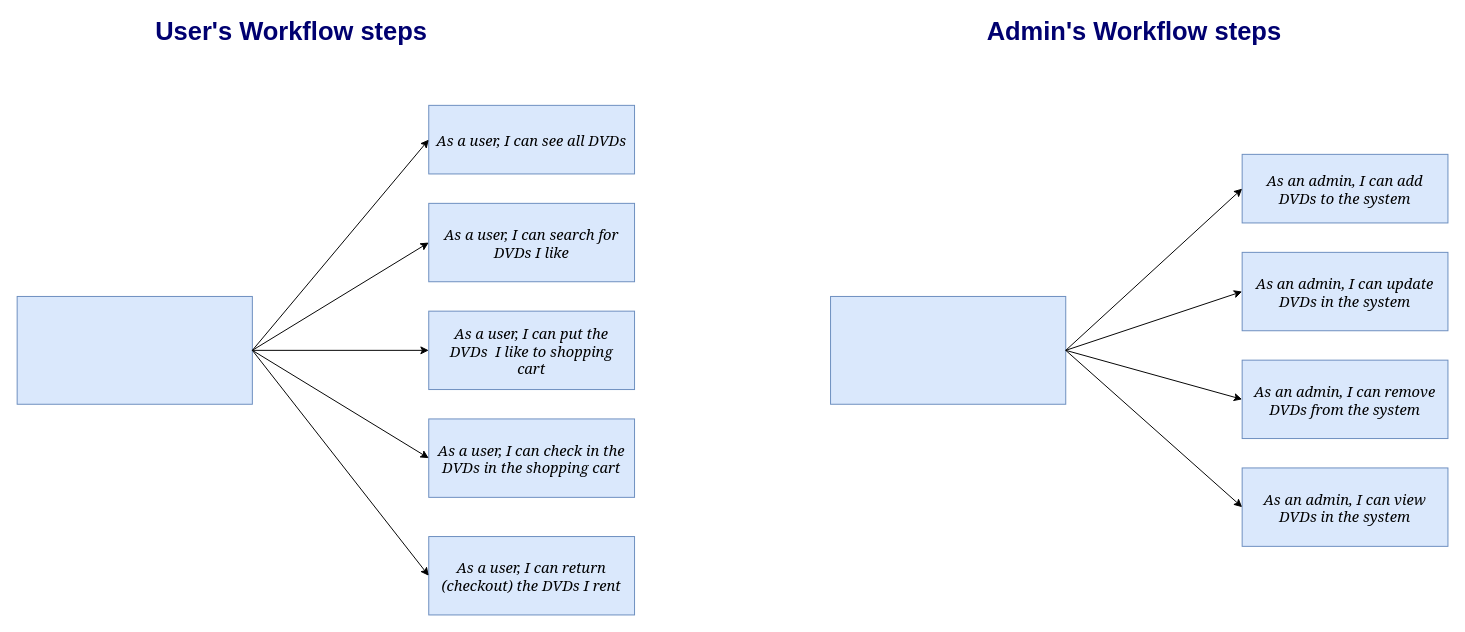
Image size: 1465x632. Some labels were removed from this diagram. Here are the shapes that lost their labels. From the top down, the centre of each, then its label:
[134,349]: As a user, I can check in / checkout the DVDs I want to rent
[948,349]: As an admin, I can manage DVDs
